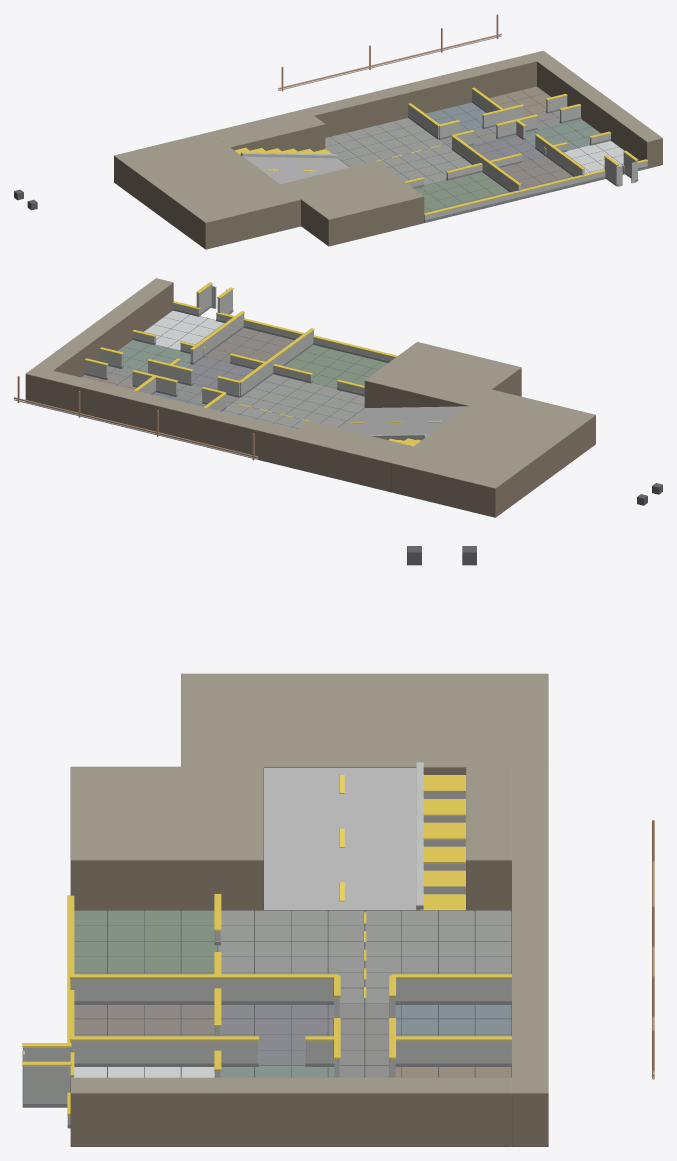
The model's file is бункер.glb.
The picture shows the model from 3 angles, top to bottom: view 1: azimuth 30°, elevation 25°; view 2: azimuth 150°, elevation 25°; view 3: azimuth 270°, elevation 25°; orthographic projection. The views are drawn at different scales.
Parts seen in each view (by area): view 1: PieceПолы_Mesh, PieceЗемля 1_Mesh, PieceЗемля 4_Mesh, PieceЗемля 3_Mesh, PieceЗемля 5_Mesh, PieceРампа_Mesh, PieceЗемля 2_Mesh, PieceСтена 1_Mesh, PieceСтена 8_Mesh, PieceТрубы_Mesh, PieceСтена 17_Mesh, PieceСтена 4_Mesh (+5 smaller); view 2: PieceЗемля 1_Mesh, PieceПолы_Mesh, PieceЗемля 4_Mesh, PieceЗемля 3_Mesh, PieceЗемля 5_Mesh, PieceРампа_Mesh, PieceСтена 1_Mesh, PieceЗемля 2_Mesh, PieceСтена 8_Mesh, PieceТрубы_Mesh, PieceСтена 17_Mesh, PieceСтена 4_Mesh (+6 smaller); view 3: PieceПолы_Mesh, PieceЗемля 1_Mesh, PieceЗемля 5_Mesh, PieceРампа_Mesh, PieceЗемля 3_Mesh, PieceЗемля 4_Mesh, PieceСтена 8_Mesh, PieceЗемля 2_Mesh, PieceСтена 17_Mesh, PieceСтена 7_Mesh, PieceСтена 15_Mesh, PieceСтена 19_Mesh (+3 smaller).
Part boxes in pixels (x1,y1,x2,y2): PieceПолы_Mesh: [325, 86, 646, 222]; PieceЗемля 1_Mesh: [114, 132, 300, 249]; PieceЗемля 4_Mesh: [209, 50, 552, 138]; PieceЗемля 3_Mesh: [281, 161, 424, 246]; PieceЗемля 5_Mesh: [537, 57, 662, 168]; PieceРампа_Mesh: [234, 147, 349, 184]; PieceЗемля 2_Mesh: [219, 115, 325, 151]; PieceСтена 1_Mesh: [424, 169, 605, 221]; PieceСтена 8_Mesh: [451, 135, 521, 192]; PieceТрубы_Mesh: [278, 14, 501, 91]; PieceСтена 17_Mesh: [535, 134, 584, 176]; PieceСтена 4_Mesh: [446, 153, 522, 180]; PieceЗемля 1_Mesh: [391, 389, 595, 517]; PieceПолы_Mesh: [81, 310, 387, 429]; PieceЗемля 4_Mesh: [25, 366, 400, 492]; PieceЗемля 3_Mesh: [364, 342, 521, 407]; PieceЗемля 5_Mesh: [36, 278, 173, 377]; PieceРампа_Mesh: [338, 406, 467, 446]; PieceСтена 1_Mesh: [216, 312, 397, 362]; PieceЗемля 2_Mesh: [297, 421, 413, 455]; PieceСтена 8_Mesh: [238, 328, 314, 397]; PieceТрубы_Mesh: [14, 376, 258, 460]; PieceСтена 17_Mesh: [190, 311, 244, 364]; PieceСтена 4_Mesh: [229, 353, 312, 383]; PieceПолы_Mesh: [74, 910, 511, 1077]; PieceЗемля 1_Mesh: [181, 673, 548, 774]; PieceЗемля 5_Mesh: [70, 1077, 511, 1146]; PieceРампа_Mesh: [263, 762, 465, 910]; PieceЗемля 3_Mesh: [70, 766, 263, 910]; PieceЗемля 4_Mesh: [512, 766, 548, 1146]; PieceСтена 8_Mesh: [70, 974, 337, 1004]; PieceЗемля 2_Mesh: [466, 766, 511, 910]; PieceСтена 17_Mesh: [70, 1036, 258, 1066]; PieceСтена 7_Mesh: [391, 974, 511, 1004]; PieceСтена 15_Mesh: [392, 1036, 511, 1066]; PieceСтена 19_Mesh: [22, 1061, 71, 1107].
Size of the model in its own units: 68.8 by 5.94 by 34.41.
